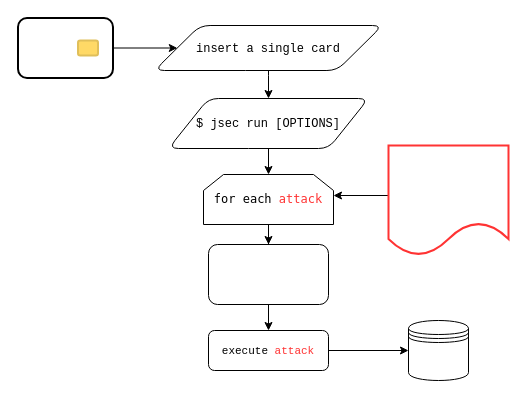
This 527x398 diagram has some shape labels left out. The centre of each missing label's shape, as x and y in pixels:
#registry.ini arraycopy arrayops baload_bastore ...: the point at 448,200
rebuild attack if needed: the point at 268,274
